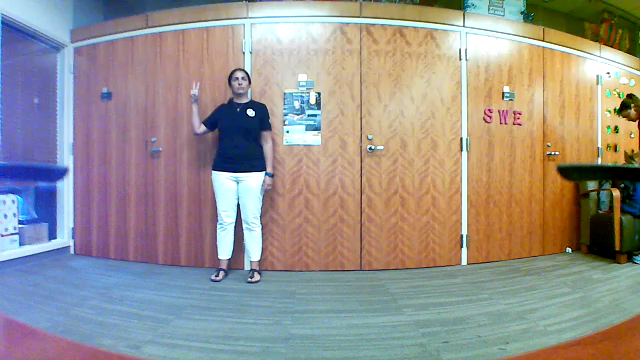peace: (185, 78, 209, 107)
